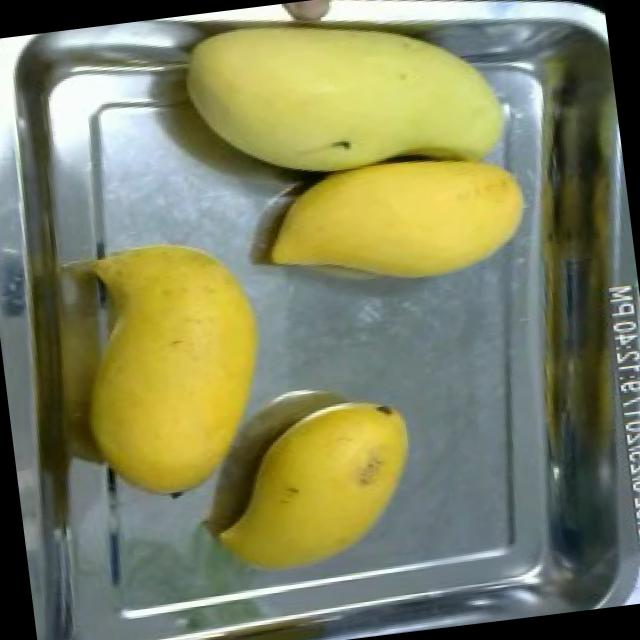fruit: (202, 0, 557, 320), (52, 209, 293, 516), (193, 381, 434, 587)
